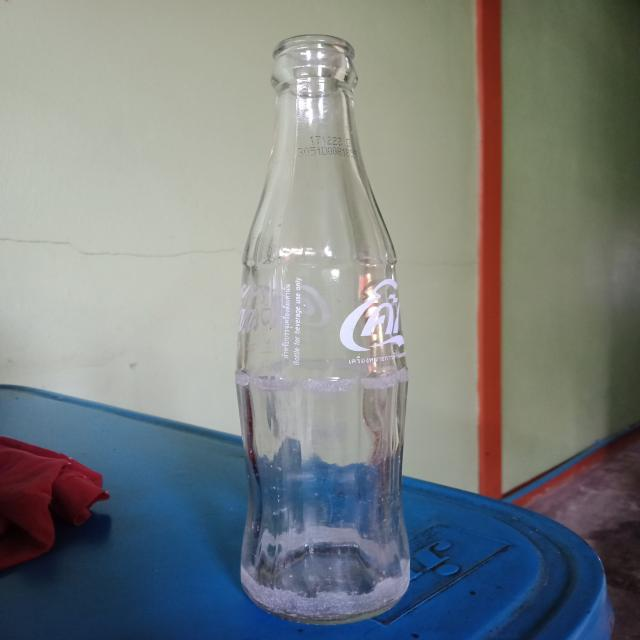glass-bottle: (230, 28, 427, 625)
